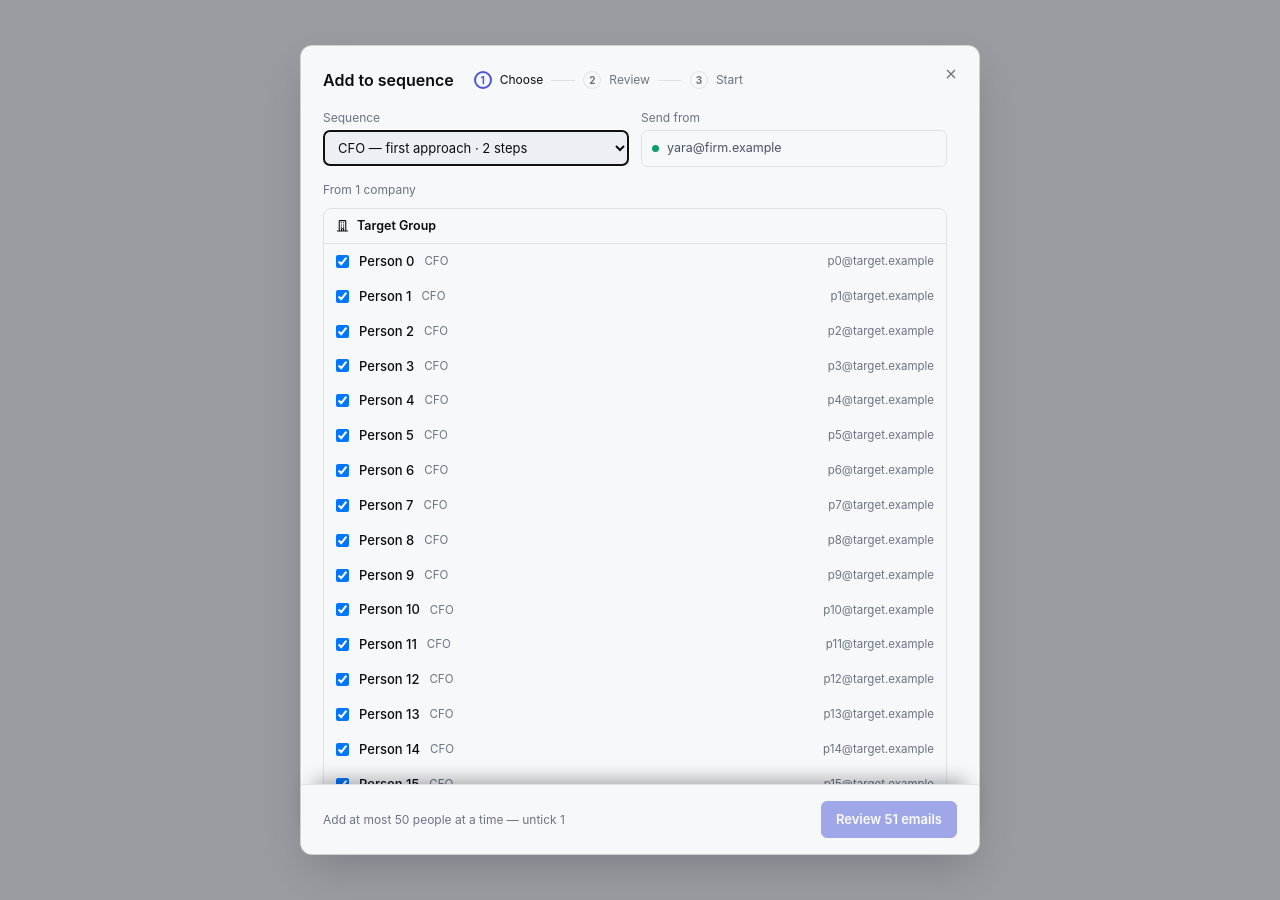
it: EnrolDialog › drafts nothing while more people are ticked than one Start may enroll
Expected: the text "Add at most 50 people at a time — untick 1" is shown, left=323, top=811, right=565, bottom=828
Expected: the button "Review 51 emails" is disabled, left=821, top=801, right=957, bottom=838
Click the checkbox labelled "Person 0" at (342, 262), box left=336, top=255, right=349, bottom=268
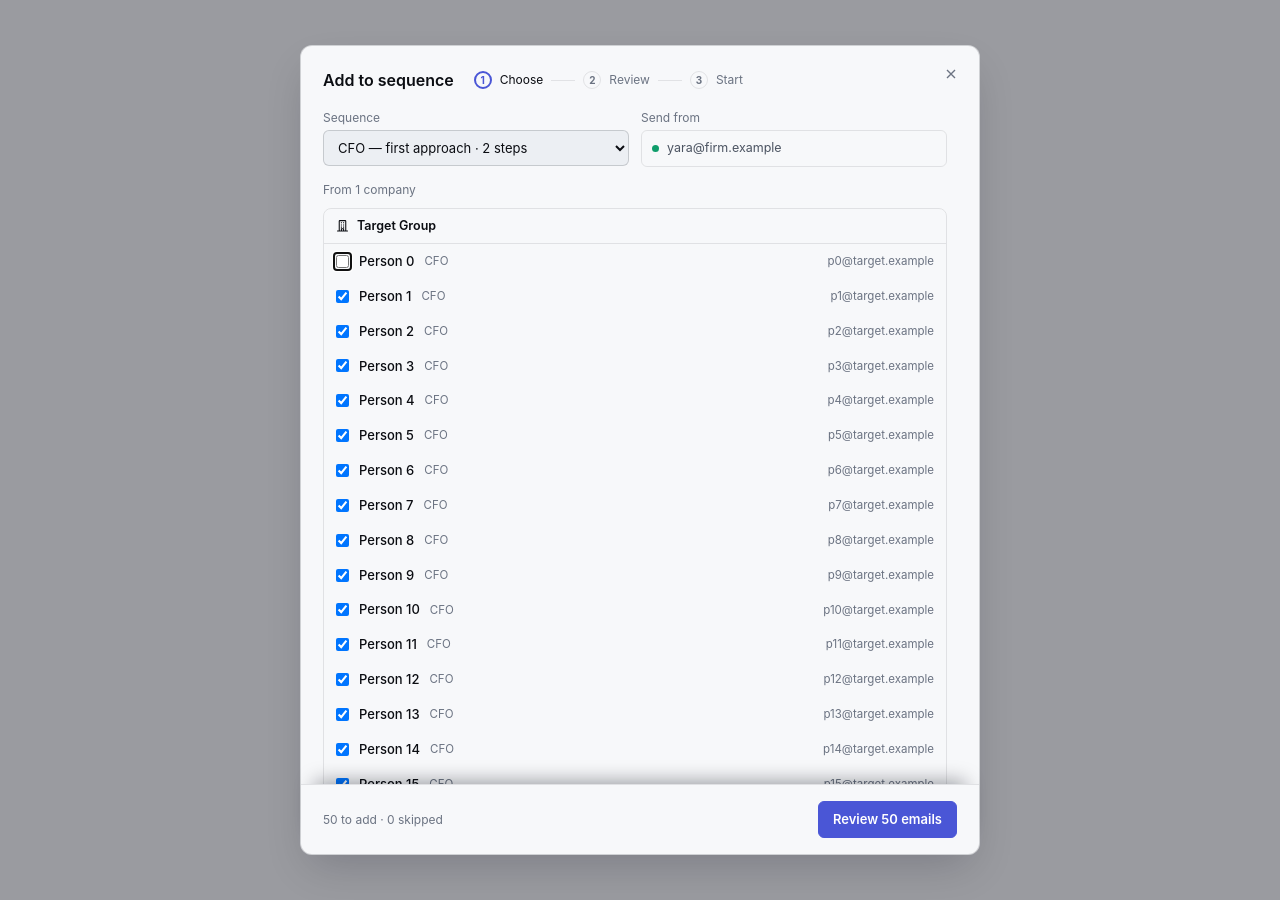
Expected: the button "Review 50 emails" is enabled, left=818, top=801, right=957, bottom=838
